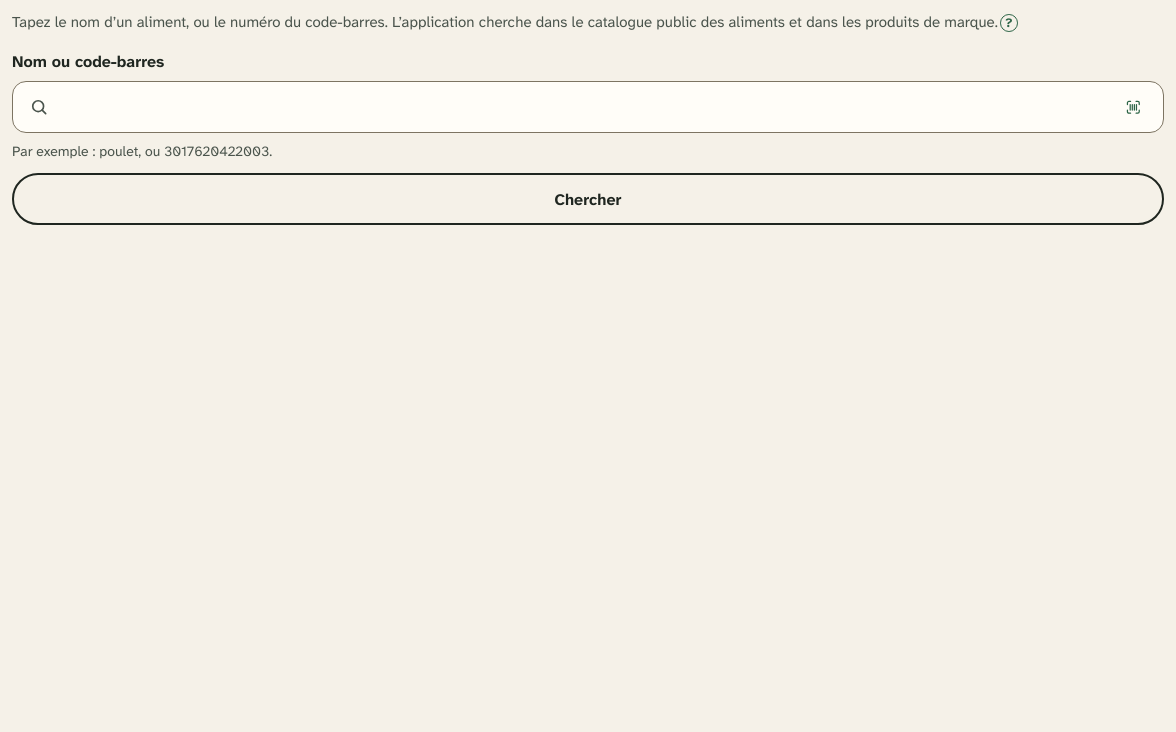
Test: FoodPicker — résultats › ne propose pas de quantité favorite quand l’écran ne les garde pas
Type "skyr" into the search field labelled "Nom ou code-barres" at (580, 107), box [57,82,1103,132]
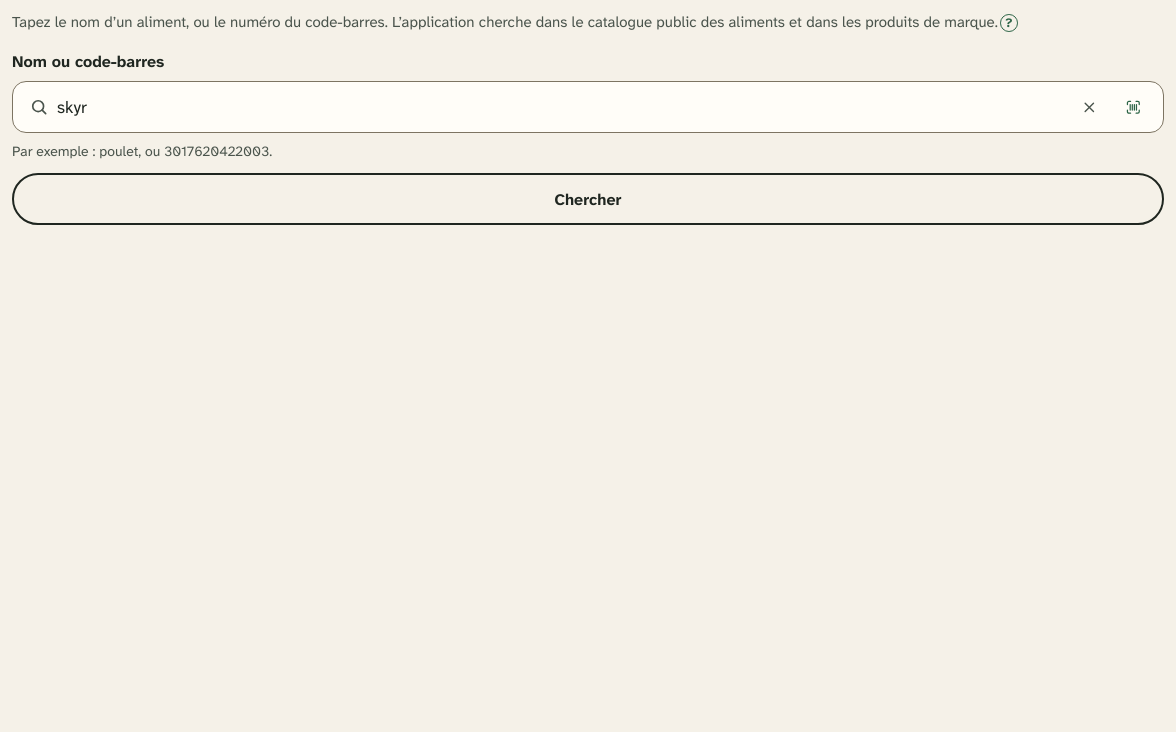
Submit the form, box [12,50,1164,225]
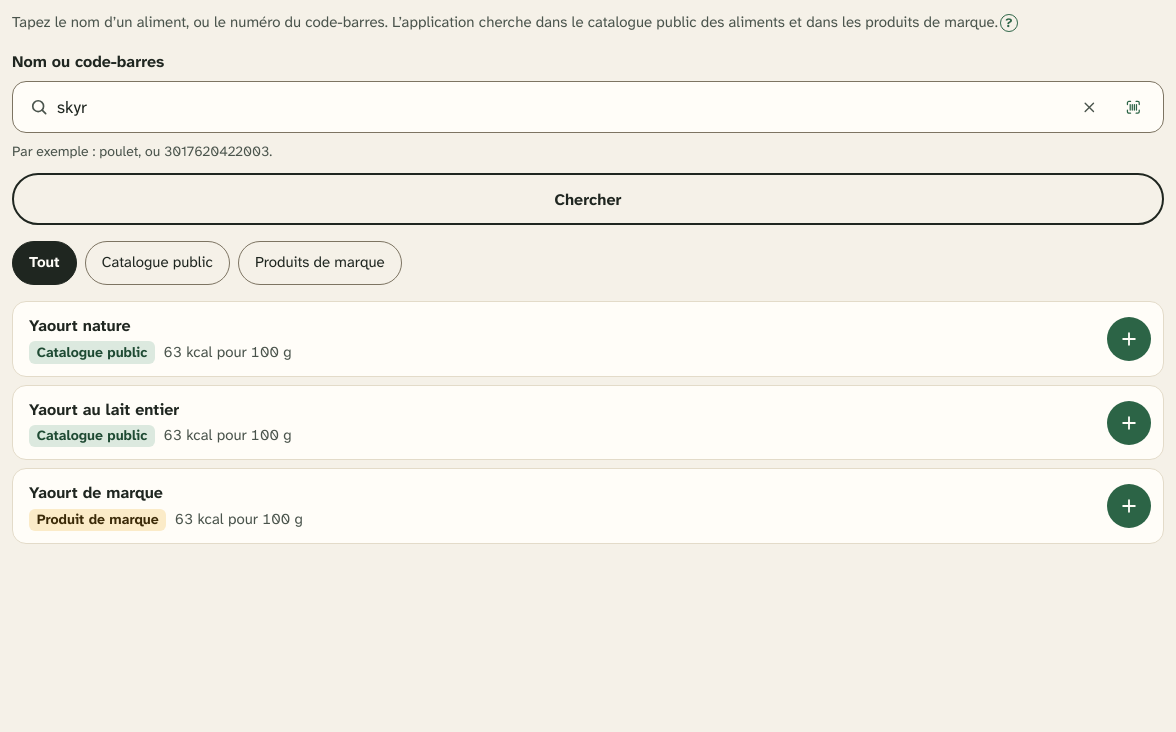
Click the button "Yaourt nature Catalogue public 63 kcal pour 100 g" at (80, 326), box [13,302,1163,376]
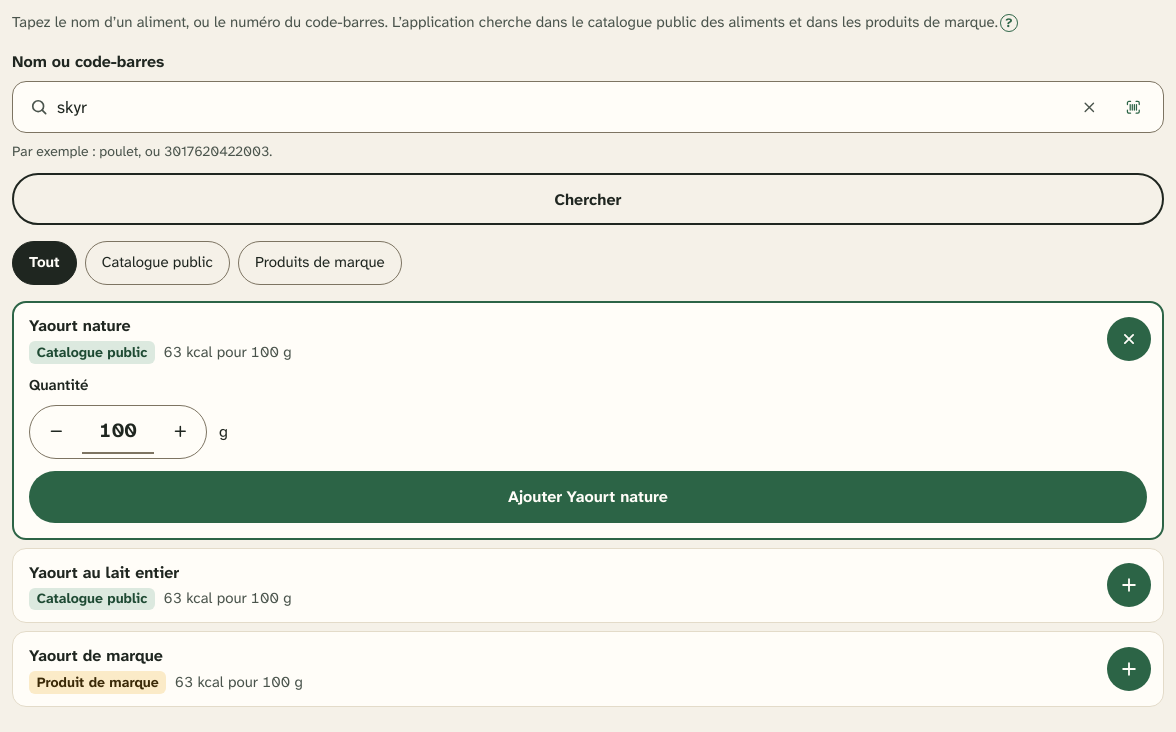
Result: the 2nd label is shown at [82,410,154,454]
